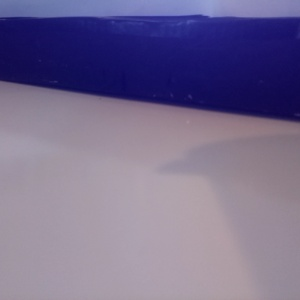zone: (1, 15, 143, 67)
